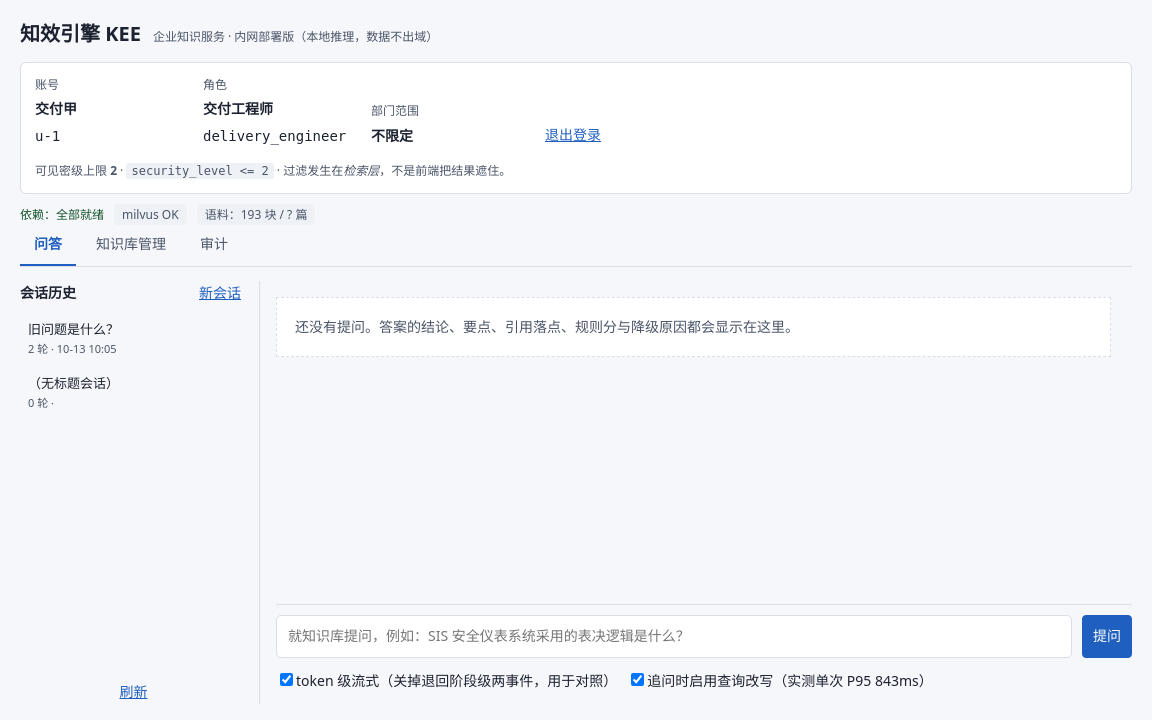
Test: 问答记录住在哪一层 › 新会话清空正文，但历史列表仍在（清空是开一条新会话，不是删记录）
The image size is (1152, 720).
Click the button with test id "session-s-old". click: point(126, 339)
box: [20,313,232,365]
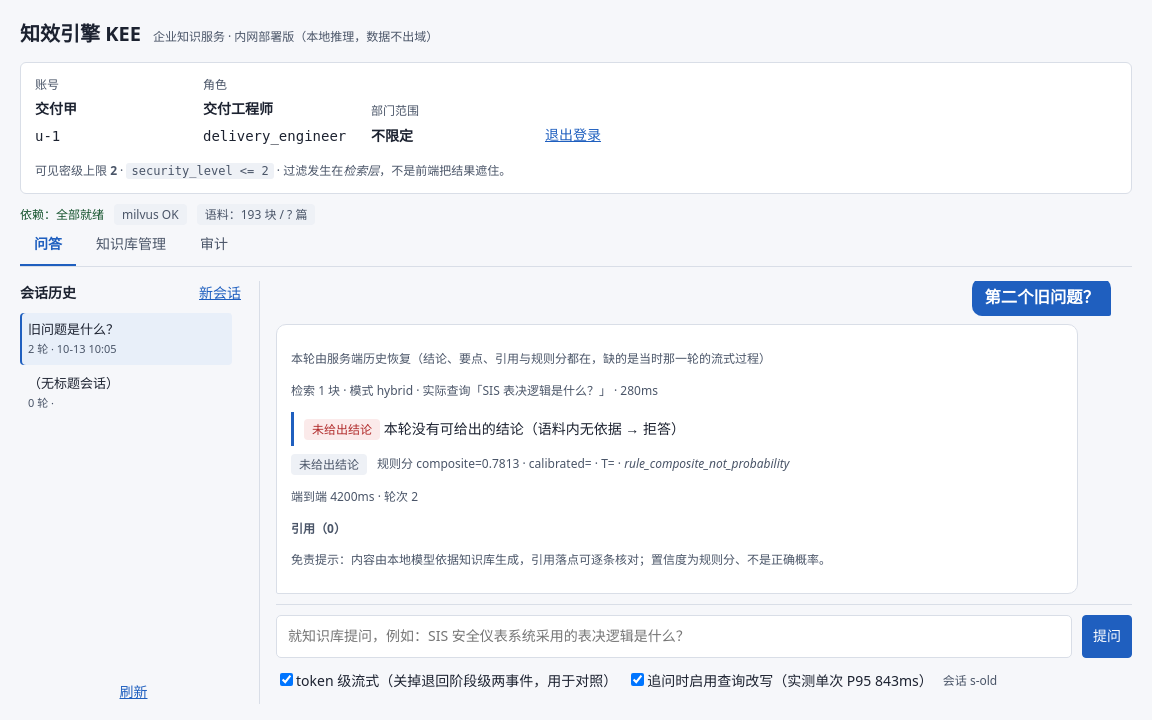
Click the button "新会话". click: point(220, 293)
box: [193,281,247,305]
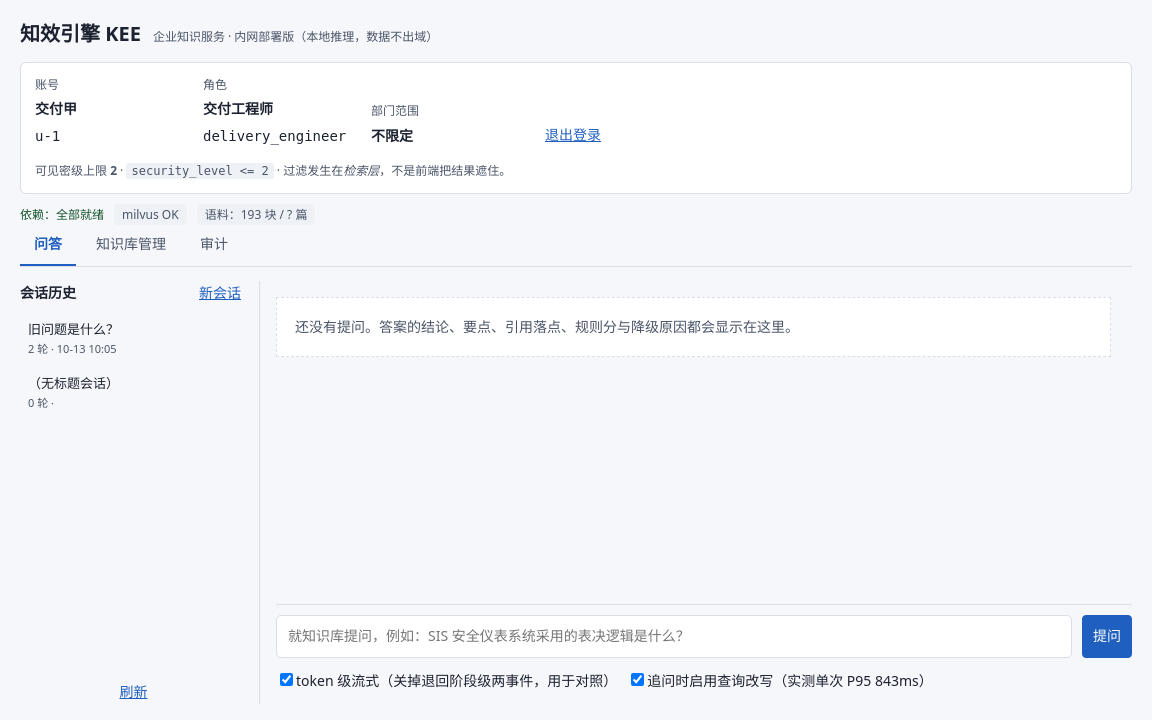
expect the button with test id "session-s-old" is shown: met, box [20,313,232,365]
expect the element with test id "turn" is gone: met
